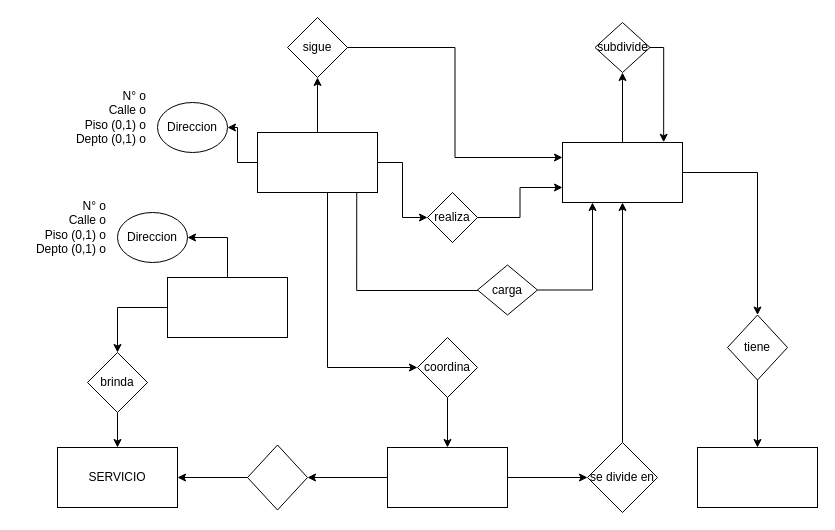
Image size: 835x530. Some labels were removed from this diagram. Each missing label, with the centre of its shape:
"EMPLEADO" goes at (317,162).
"EMPRESA" goes at (227,307).
"ESTADO" goes at (757,477).
"PROYECTO" goes at (447,477).
"requiere" goes at (277,477).
"TAREA" goes at (622,172).
